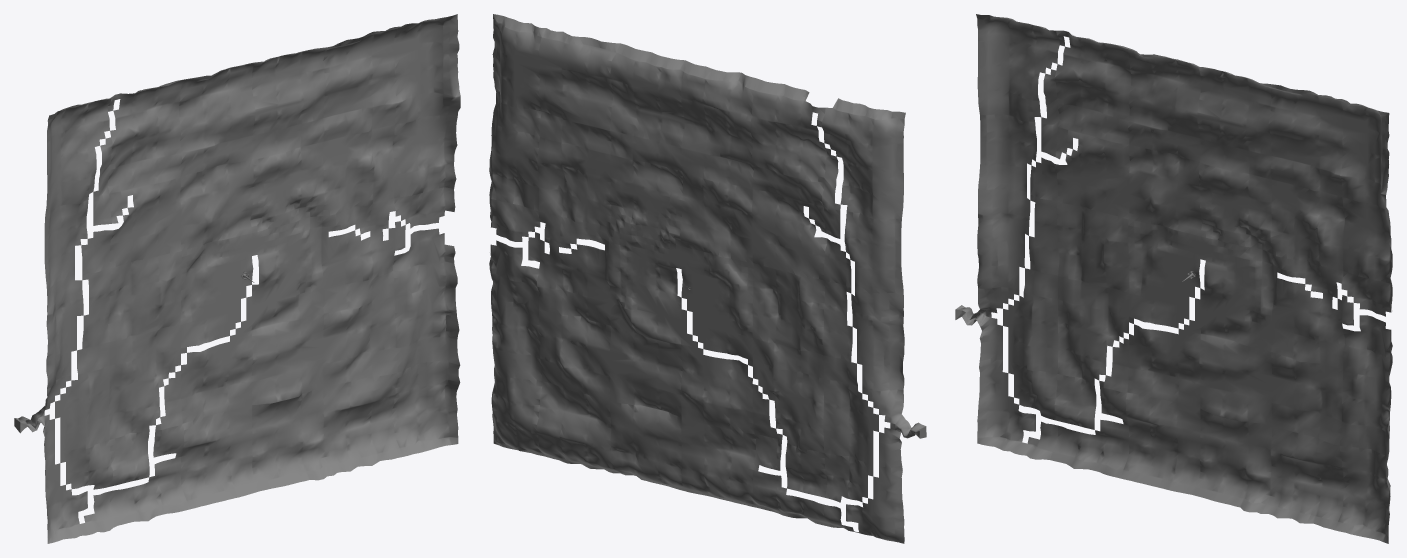
File: gfaydark_fixed.glb
3 renders of one model, left to right at view 1: azimuth 30°, elevation 25°; view 2: azimuth 150°, elevation 25°; view 3: azimuth 330°, elevation 25°, orthographic.
Visible parts, largest first — view 1: Object_0_Node_0; view 2: Object_0_Node_0; view 3: Object_0_Node_0.
Part boxes in pixels (box(x1,y1,x2,y2)): Object_0_Node_0: box(14, 14, 460, 543); Object_0_Node_0: box(489, 14, 926, 543); Object_0_Node_0: box(955, 14, 1392, 543).
Bounding box in the file's own units: 5302 × 5000 × 296.
Materials: 2 (2 with a texture image).
